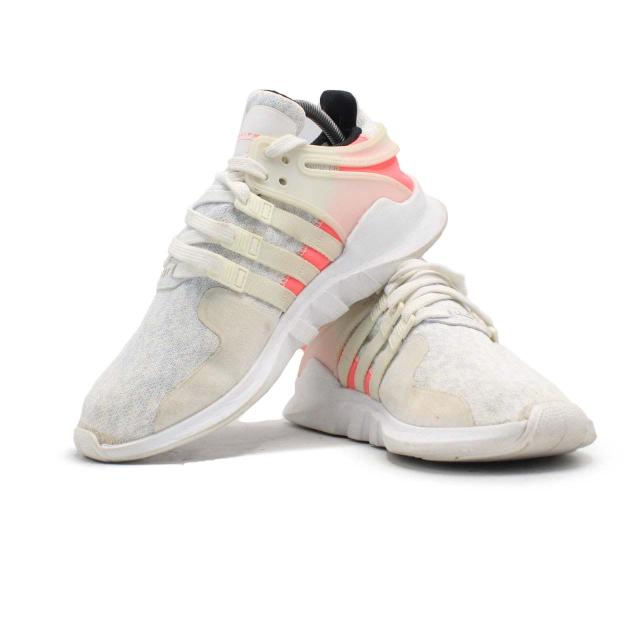heel: (321, 89, 413, 202)
midsole: (74, 171, 448, 466), (283, 357, 595, 460)
uppersole: (78, 92, 396, 448), (309, 257, 571, 428)
